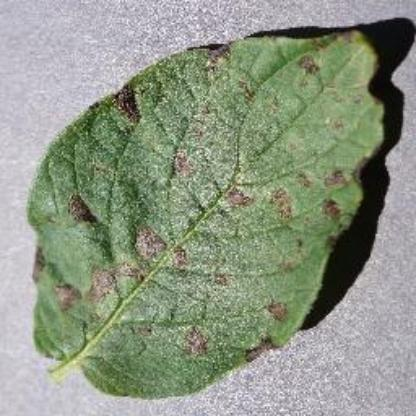Early-Blight: (24, 16, 398, 402)
